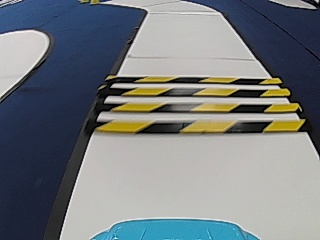bump: (113, 75, 276, 133)
